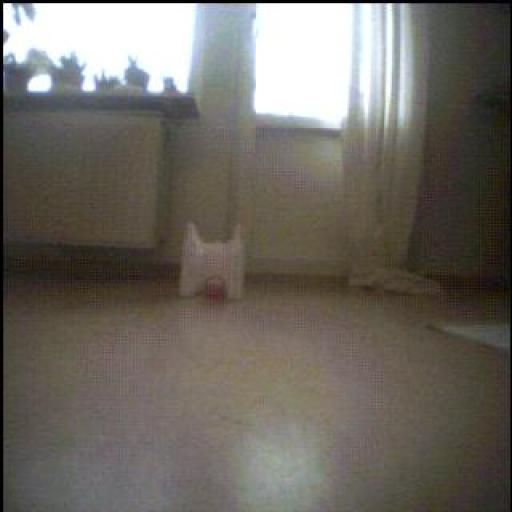Basket: (204, 278, 228, 302)
